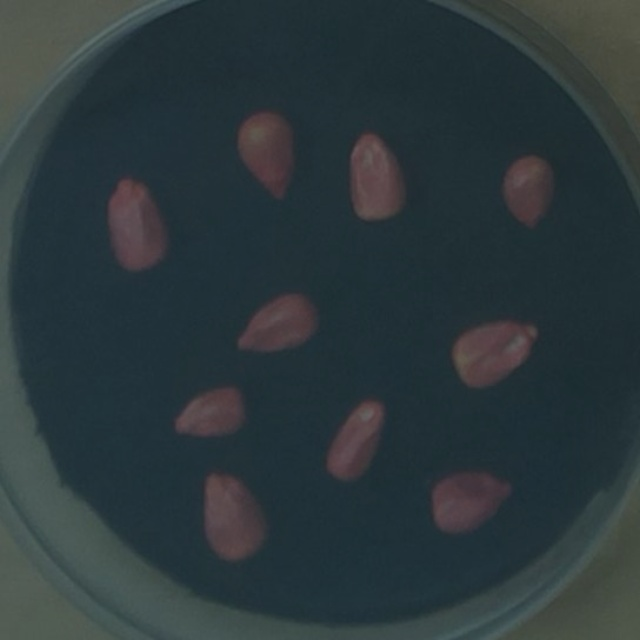Zea mays: (444, 312, 547, 400), (194, 462, 278, 569), (98, 170, 177, 281), (227, 102, 304, 211), (421, 462, 521, 545), (227, 282, 328, 363), (340, 126, 417, 230), (318, 391, 396, 493), (163, 374, 255, 447), (495, 148, 565, 237)
